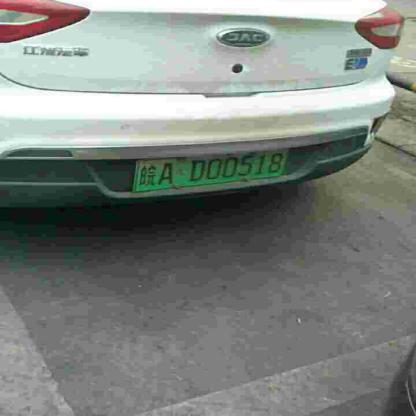lp: (133, 151, 285, 190)
